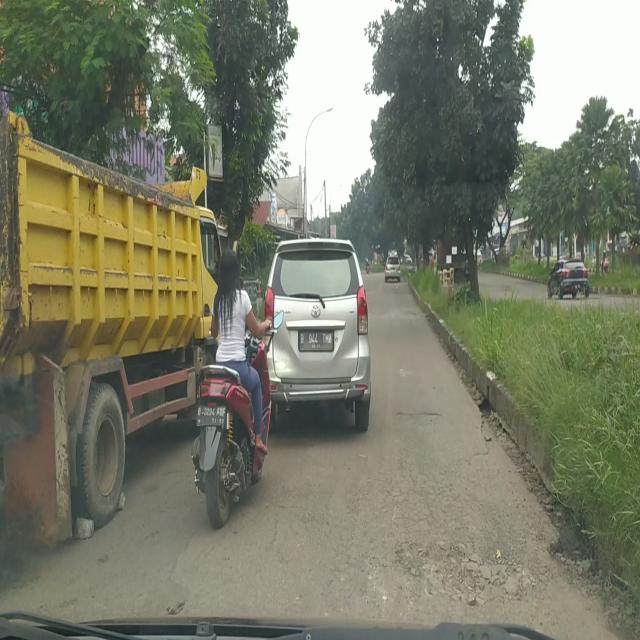Drain Hole: (394, 543, 536, 604)
Sewer Cover: (395, 410, 440, 417)
